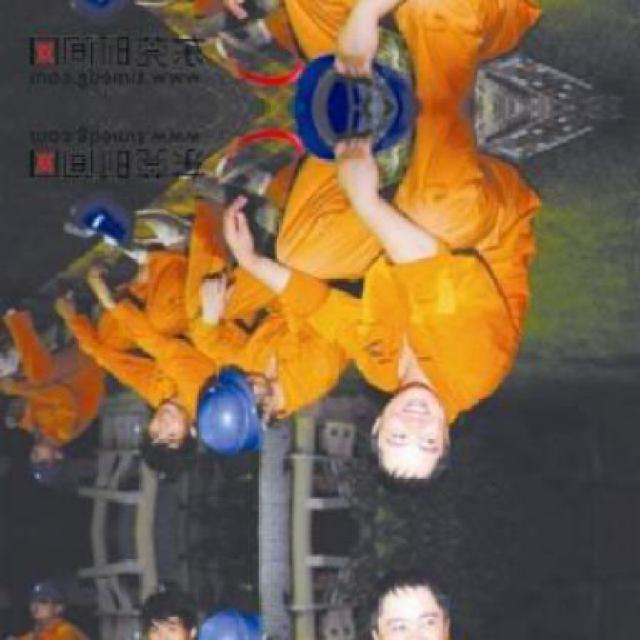con casco: (188, 347, 332, 470)
sin casco: (354, 320, 501, 508), (103, 359, 240, 484), (0, 401, 113, 498)
